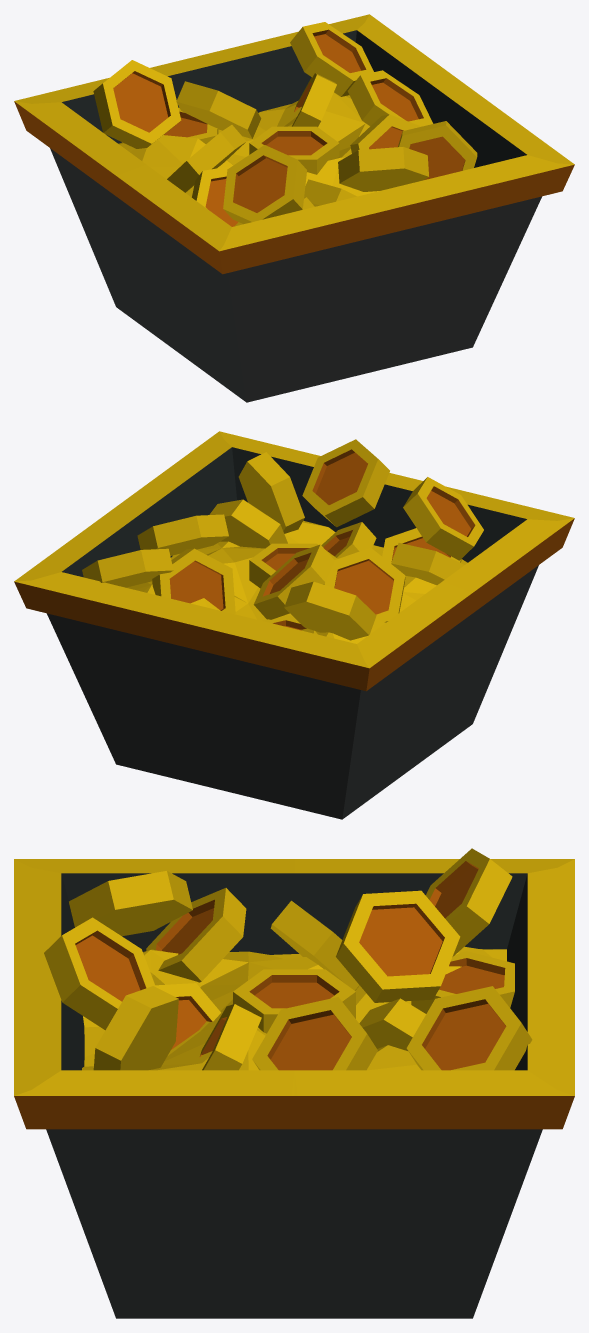
The model's file is coins.glb.
The picture shows the model from 3 angles, top to bottom: view 1: azimuth 30°, elevation 25°; view 2: azimuth 150°, elevation 25°; view 3: azimuth 270°, elevation 25°; orthographic projection. The views are drawn at different scales.
Parts seen in each view (by area): view 1: Base_0, Coins_2, Fill_3, Coin_1; view 2: Base_0, Coins_2, Fill_3, Coin_1; view 3: Base_0, Coins_2, Fill_3, Coin_1.
Part boxes in pixels (<box>): Base_0: <box>14,14,574,402</box>; Coins_2: <box>93,22,477,226</box>; Fill_3: <box>118,92,378,226</box>; Coin_1: <box>249,126,339,174</box>; Base_0: <box>14,431,574,819</box>; Coins_2: <box>82,439,483,640</box>; Fill_3: <box>126,520,467,643</box>; Coin_1: <box>249,543,337,588</box>; Base_0: <box>14,859,574,1318</box>; Coins_2: <box>44,848,532,1070</box>; Fill_3: <box>82,946,506,1070</box>; Coin_1: <box>233,969,355,1033</box>.
Size of the model in its own units: 1.65 by 1.05 by 1.65.
